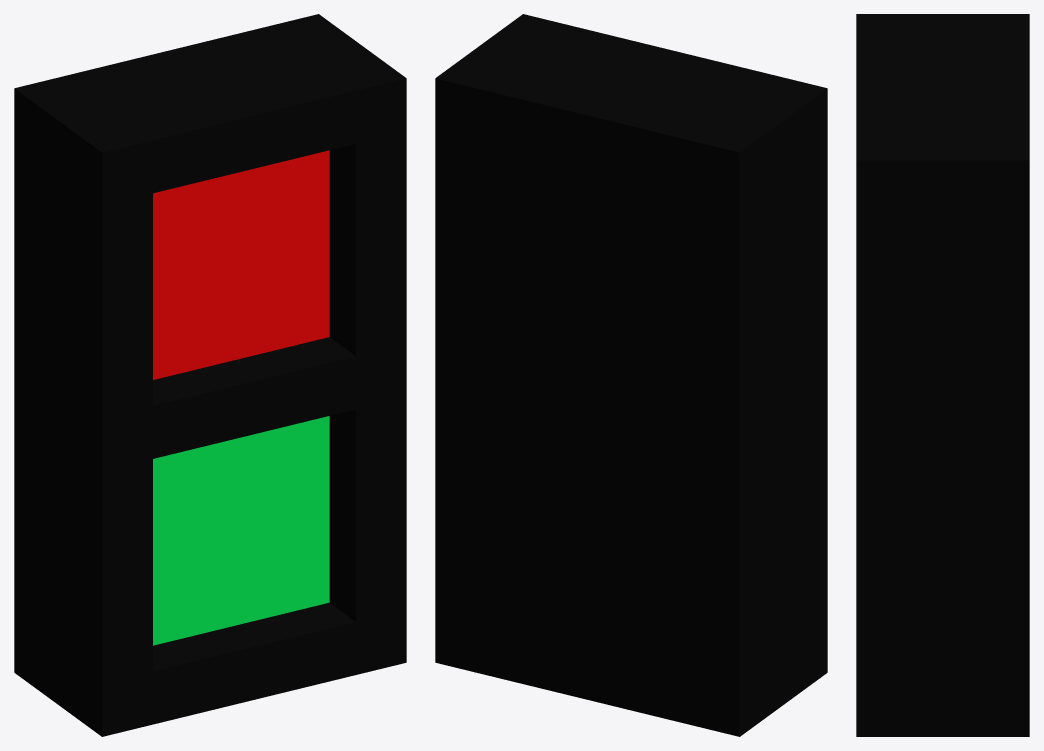
File: trafficlight_2.obj
3 renders of one model, left to right at view 1: azimuth 30°, elevation 25°; view 2: azimuth 150°, elevation 25°; view 3: azimuth 270°, elevation 25°, orthographic.
Visible parts, largest first — view 1: main, r, g; view 2: main; view 3: main.
Boxes of the visible parts, x1=… form: main: x1=14, y1=14, x2=406, y2=736; r: x1=153, y1=150, x2=329, y2=379; g: x1=153, y1=416, x2=329, y2=645; main: x1=435, y1=14, x2=827, y2=736; main: x1=856, y1=14, x2=1029, y2=736.
Bounding box in the file's own units: 0.375 × 0.6875 × 0.1875.
Materials: 4 (4 with a texture image).
